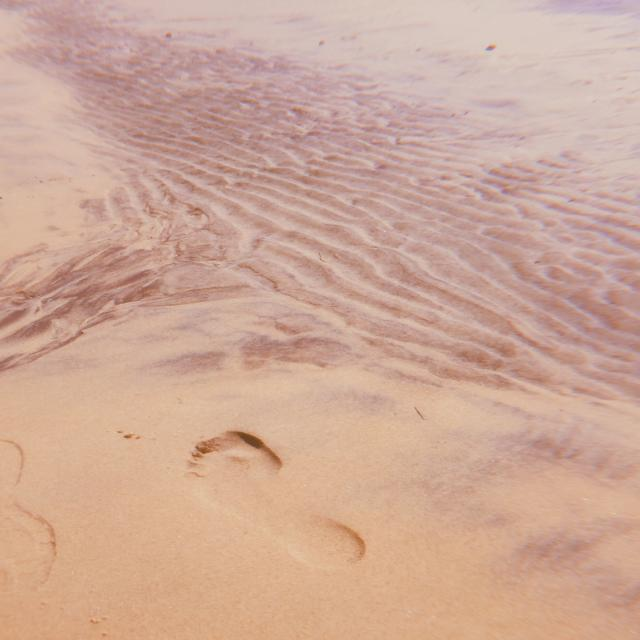human_footprint: (166, 370, 402, 594)
